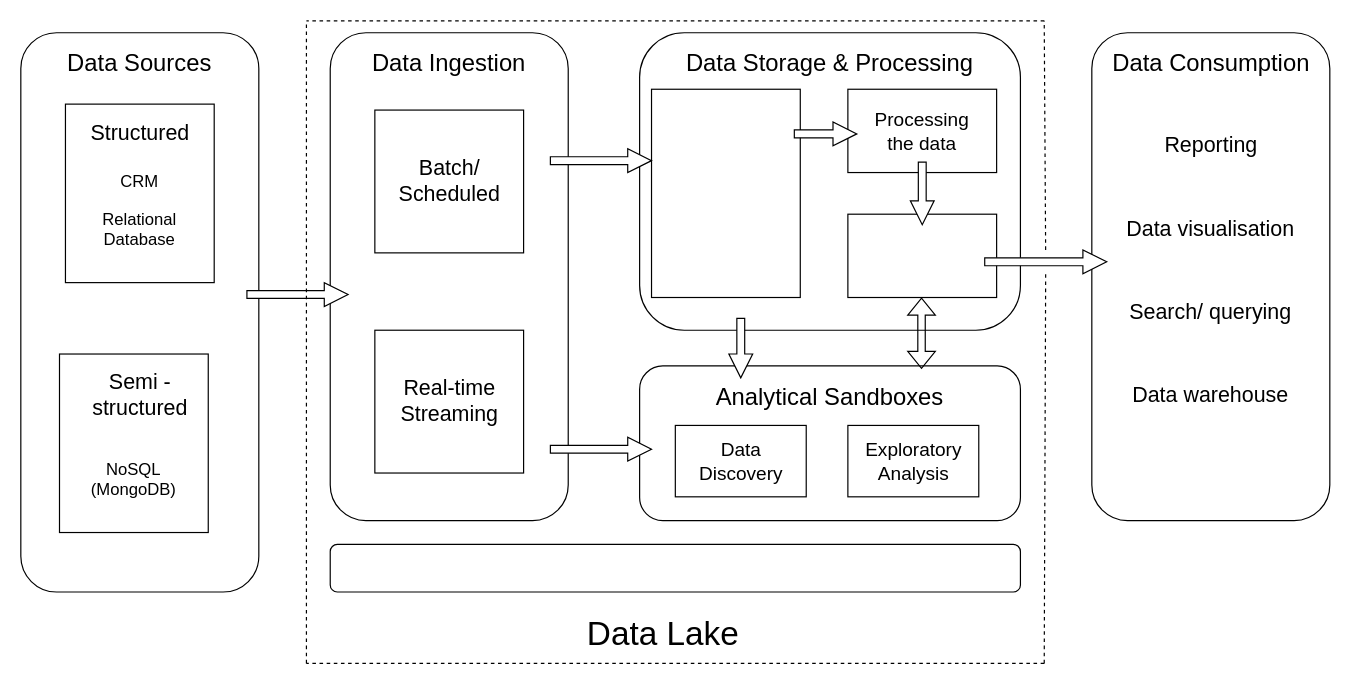
Some shapes in this 1351 by 685 pixel diagram are drawn without their labels. The shapes that lost their labels are listed below. From the top down, each one's centre as x and y in pixels, then its label:
At (725,193): "Raw data".
At (922,255): "Processed data".
At (674,567): "Data security, governance & monitoring".
